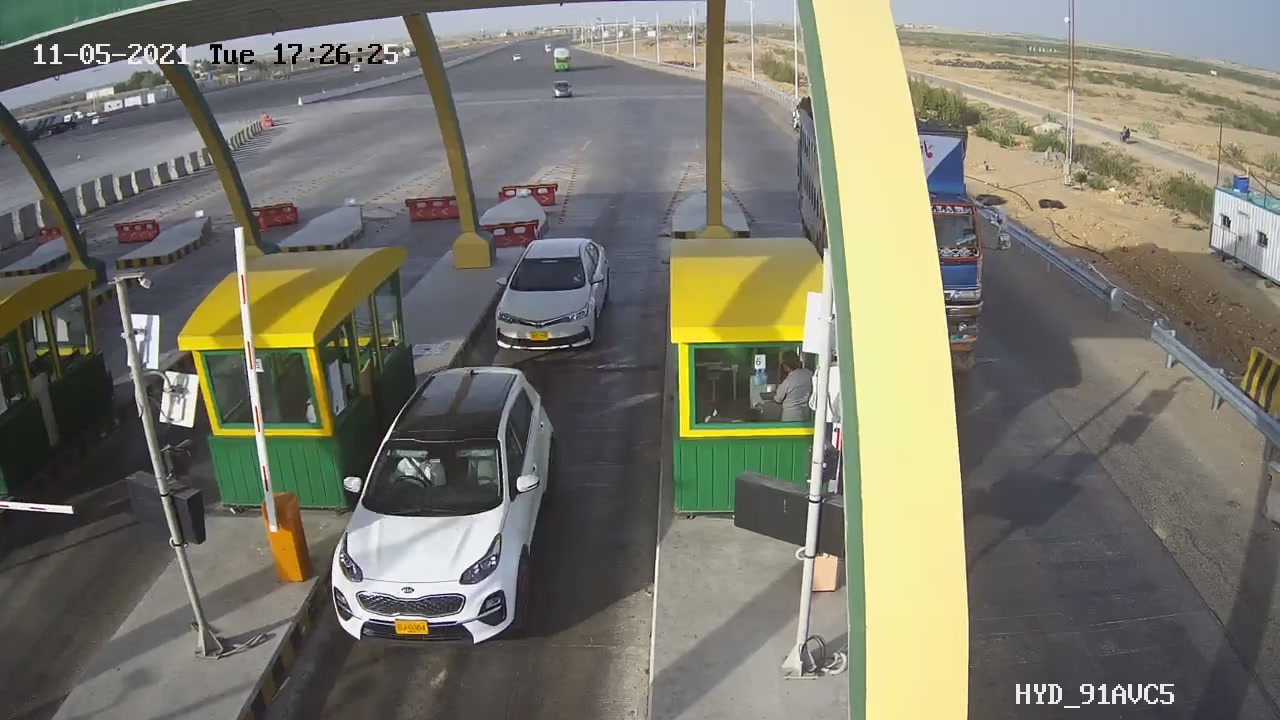F1: (481, 224, 629, 368)
